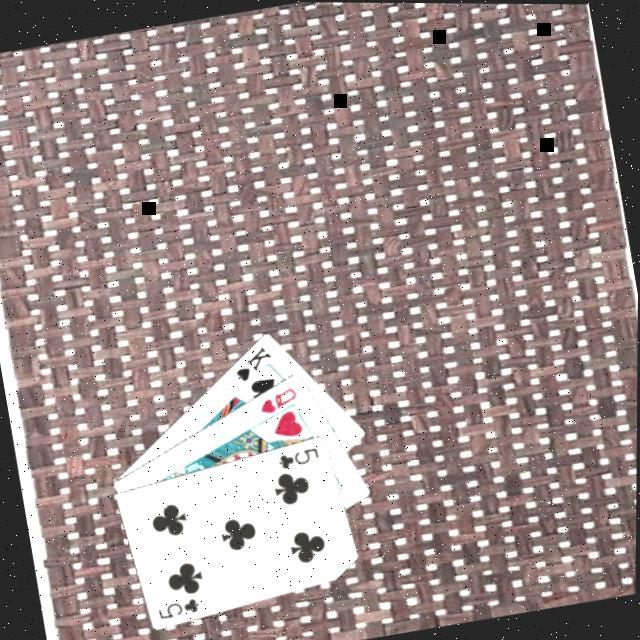5C: (273, 442, 323, 473), (153, 593, 204, 623)
KS: (227, 341, 277, 386)
QH: (253, 382, 302, 417)
